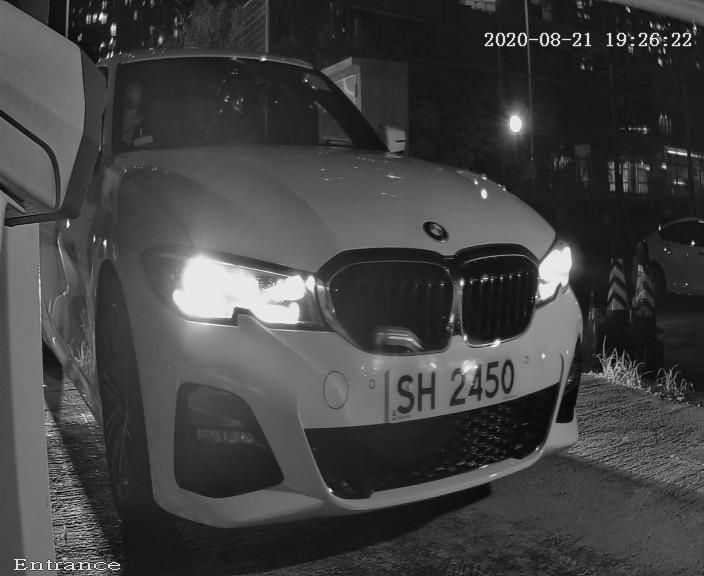License Plate: (368, 340, 522, 430)
